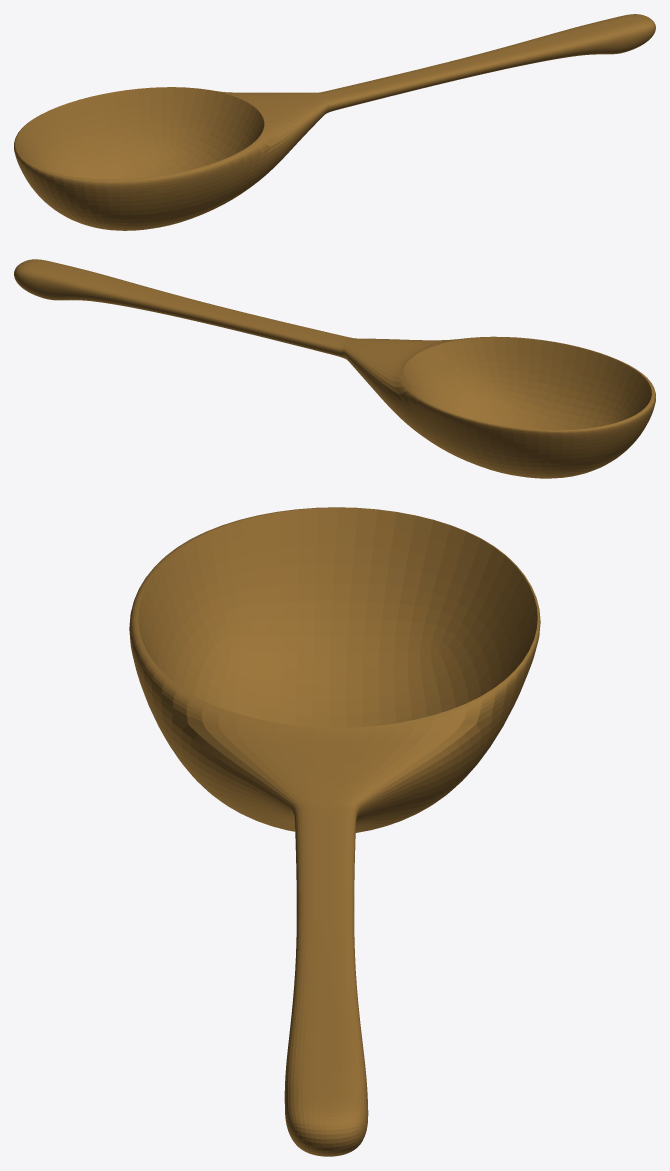
Rendered from NotSpoon.fbx.
3 renders of one model, top to bottom at view 1: azimuth 30°, elevation 25°; view 2: azimuth 150°, elevation 25°; view 3: azimuth 270°, elevation 25°, orthographic. The views are drawn at different scales.
Parts seen in each view (by area): view 1: Cube; view 2: Cube; view 3: Cube.
Part boxes in pixels (x1,y1,x2,y2): Cube: (14,14,655,230); Cube: (14,259,655,478); Cube: (129,507,540,1156).
Bounding box in the file's own units: 865 × 108 × 246.
